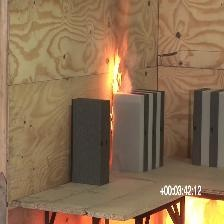fire: (99, 39, 135, 112)
